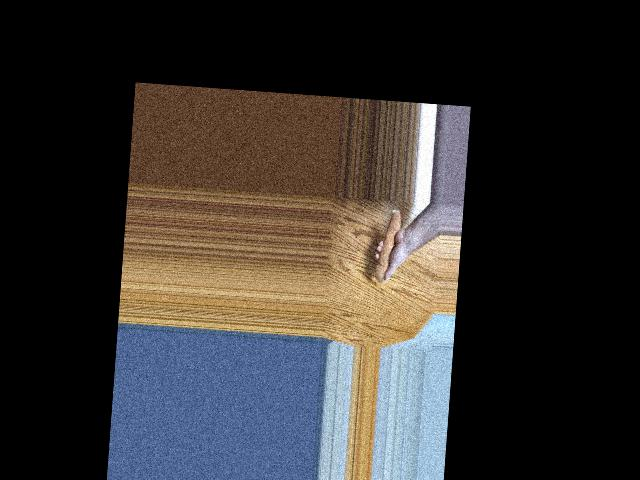sweet_potato: (373, 205, 405, 283)
